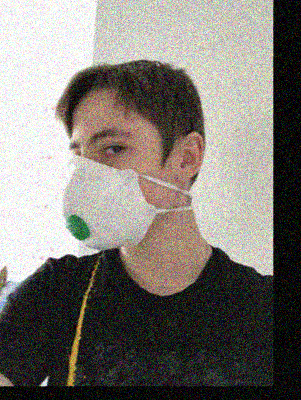with_mask: (60, 107, 149, 250)
